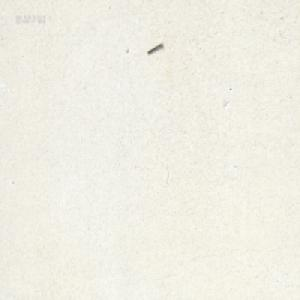Bolt: (146, 41, 162, 53)
